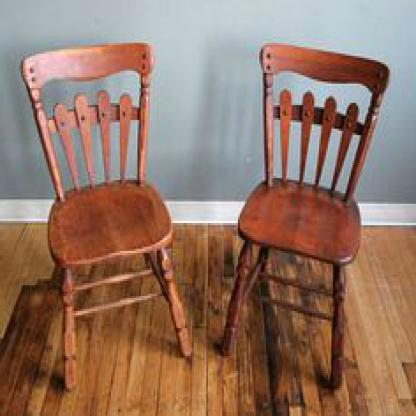chair: (12, 4, 194, 389), (213, 39, 398, 397)
